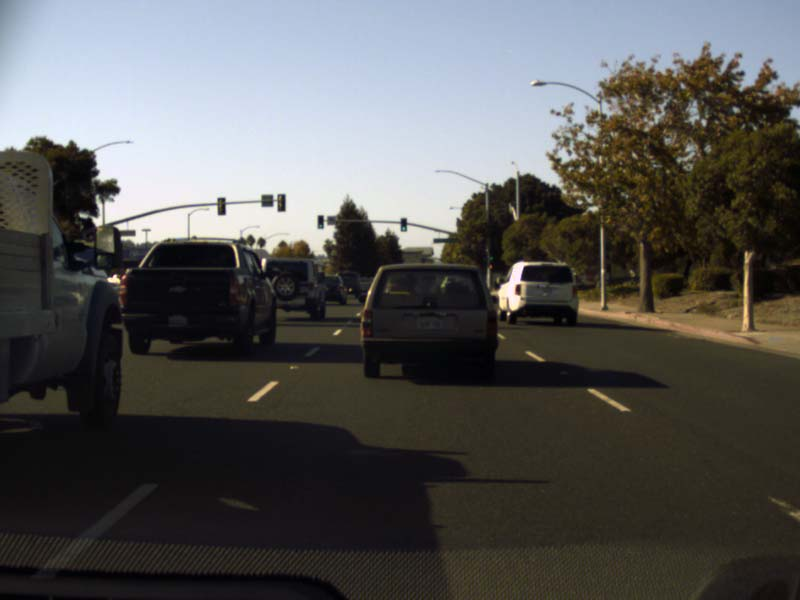Green: (400, 217, 406, 231), (316, 215, 322, 229)
